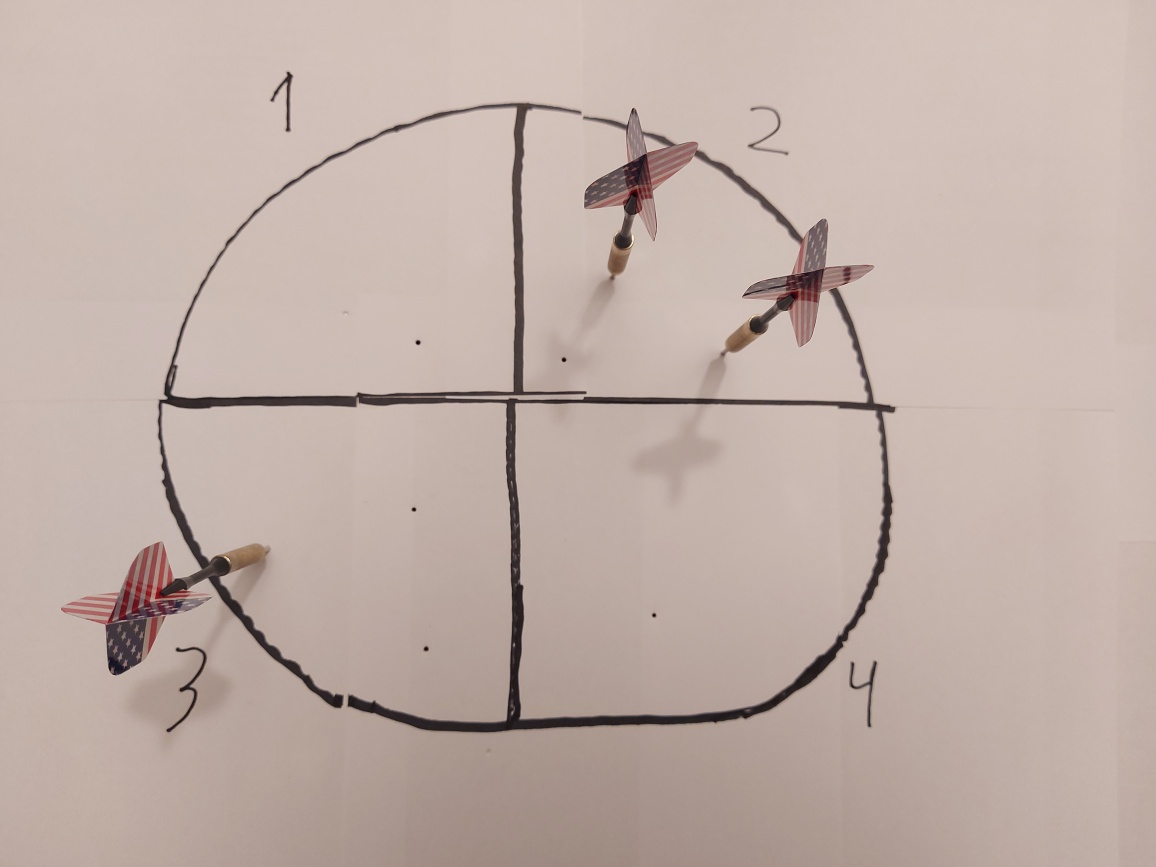Dart: (57, 537, 286, 681), (568, 96, 706, 296), (716, 210, 884, 373)
